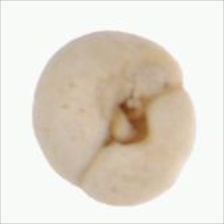L3: (99, 89, 159, 147)
L4: (32, 31, 197, 208)
